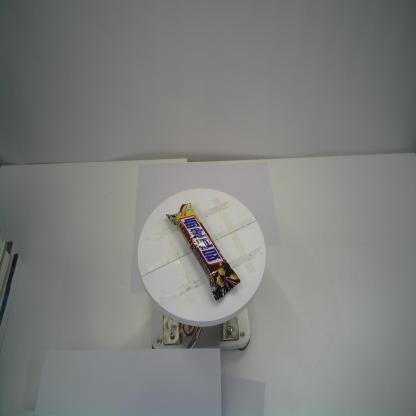Chocolate: (165, 202, 242, 303)
